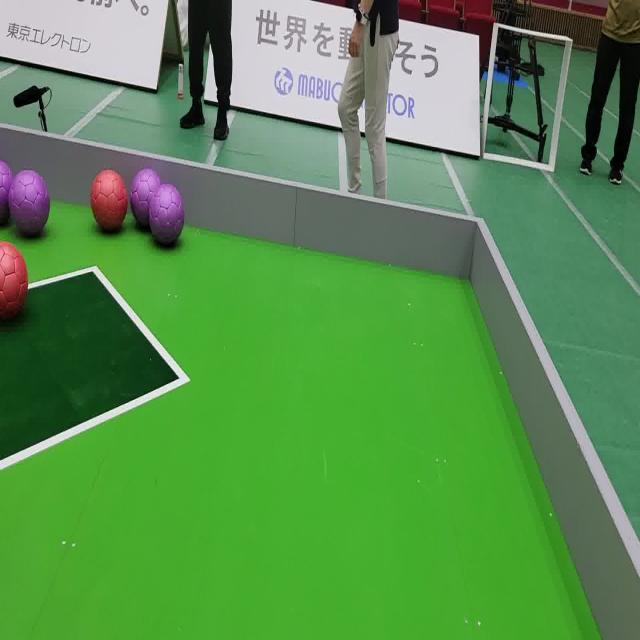purple_ball: (10, 171, 50, 236), (149, 184, 186, 250), (132, 170, 160, 222), (0, 158, 11, 222)
red_ball: (91, 167, 129, 234), (0, 238, 30, 322)
